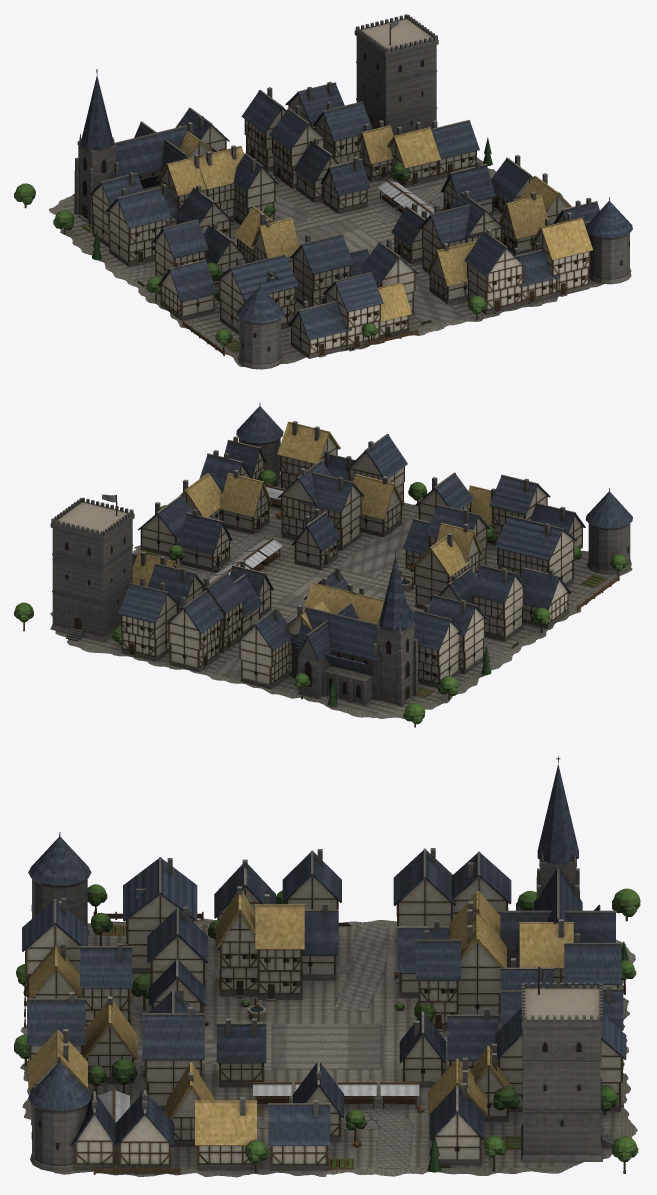
File: kingdoms-town-big-a.glb
The picture shows the model from 3 angles, top to bottom: view 1: azimuth 30°, elevation 25°; view 2: azimuth 150°, elevation 25°; view 3: azimuth 270°, elevation 25°; orthographic projection. The views are drawn at different scales.
Parts seen in each view (by area): view 1: LOD0; view 2: LOD0; view 3: LOD0.
Part boxes in pixels (bbox=[...]): LOD0: bbox=[14, 14, 632, 369]; LOD0: bbox=[14, 402, 632, 727]; LOD0: bbox=[14, 756, 640, 1177].
Size of what is drawn, in the model's own units: 8.11 by 2.8 by 8.14.
3 materials, 3 textured.
